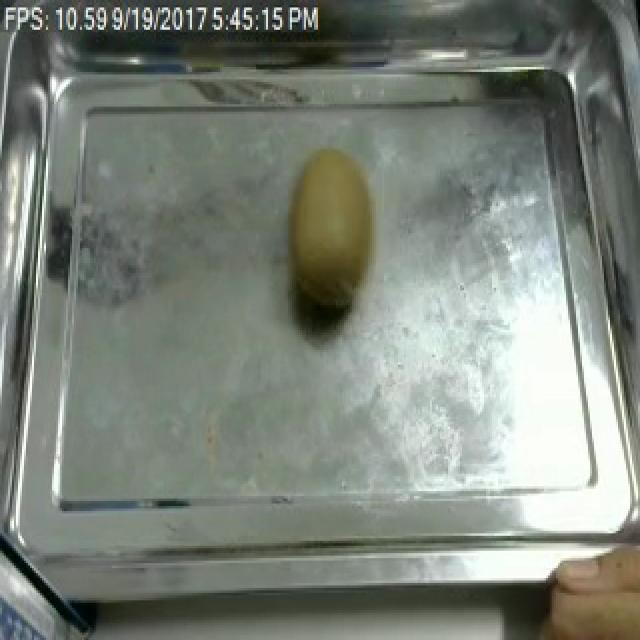Fruit: (278, 142, 390, 332), (522, 528, 640, 640)
